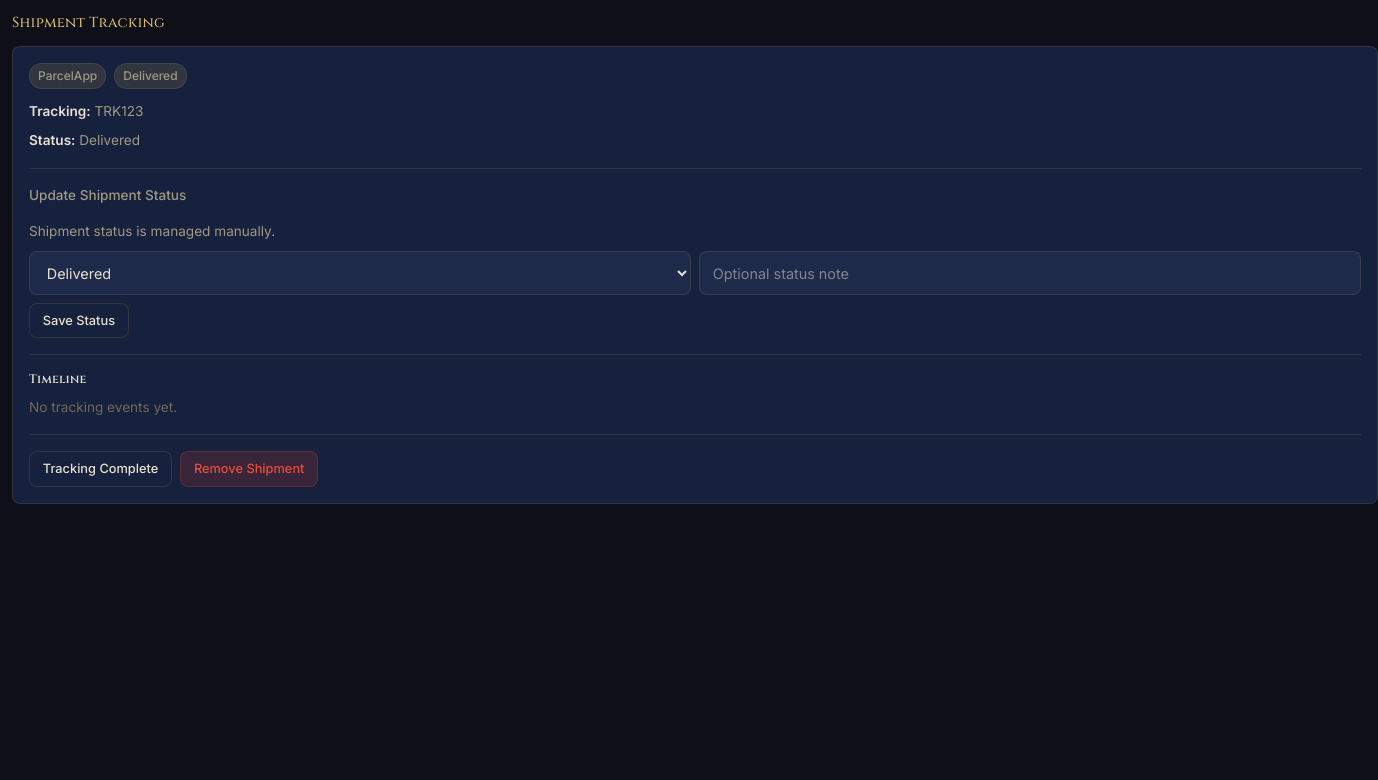
it: CoinShipmentSection › re-enables the manual ParcelApp check reactively once status moves away from delivered
Expected: the button "Tracking Complete" is disabled, [29,451,172,487]
Select "Exception" in the dropdown. click: (360, 273)
box: [29,251,691,295]
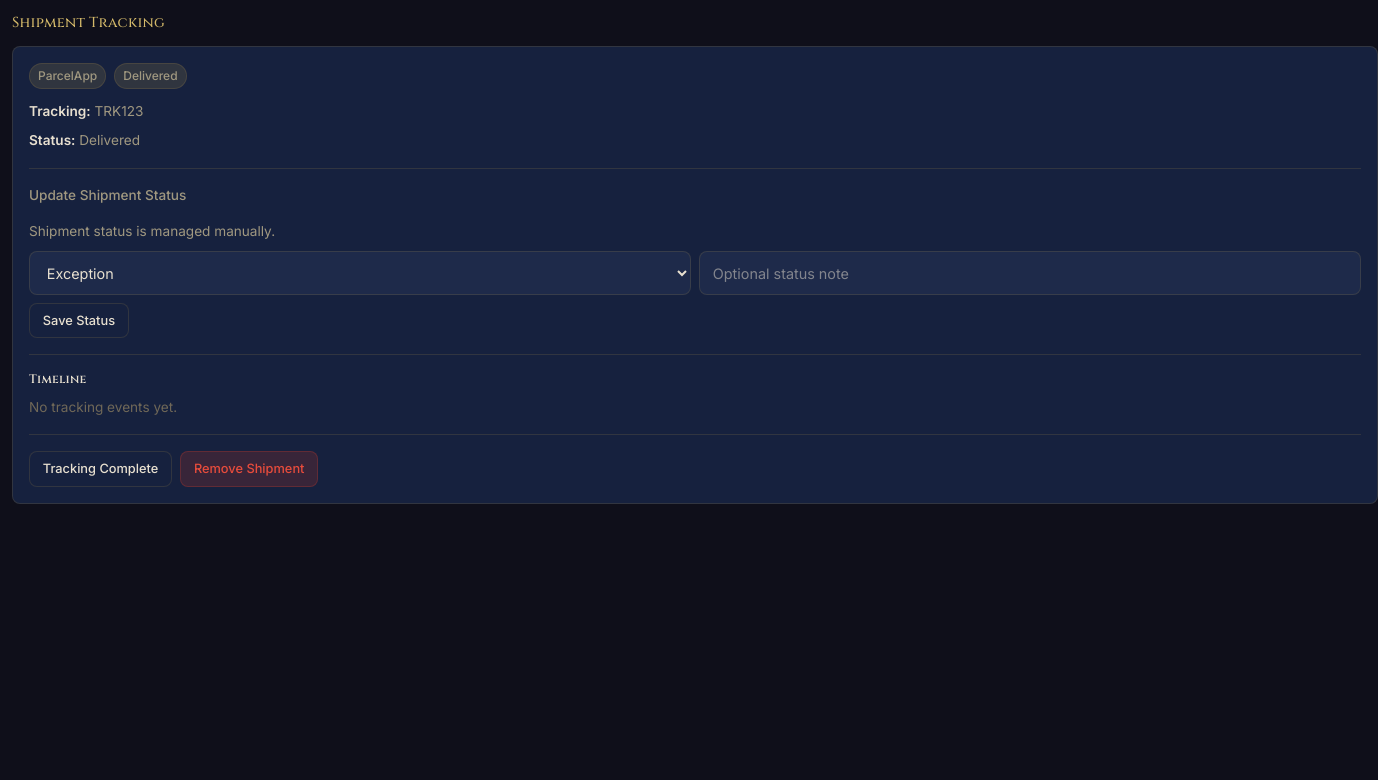
Click the button "Save Status". click: (79, 321)
box: [29,303,129,338]
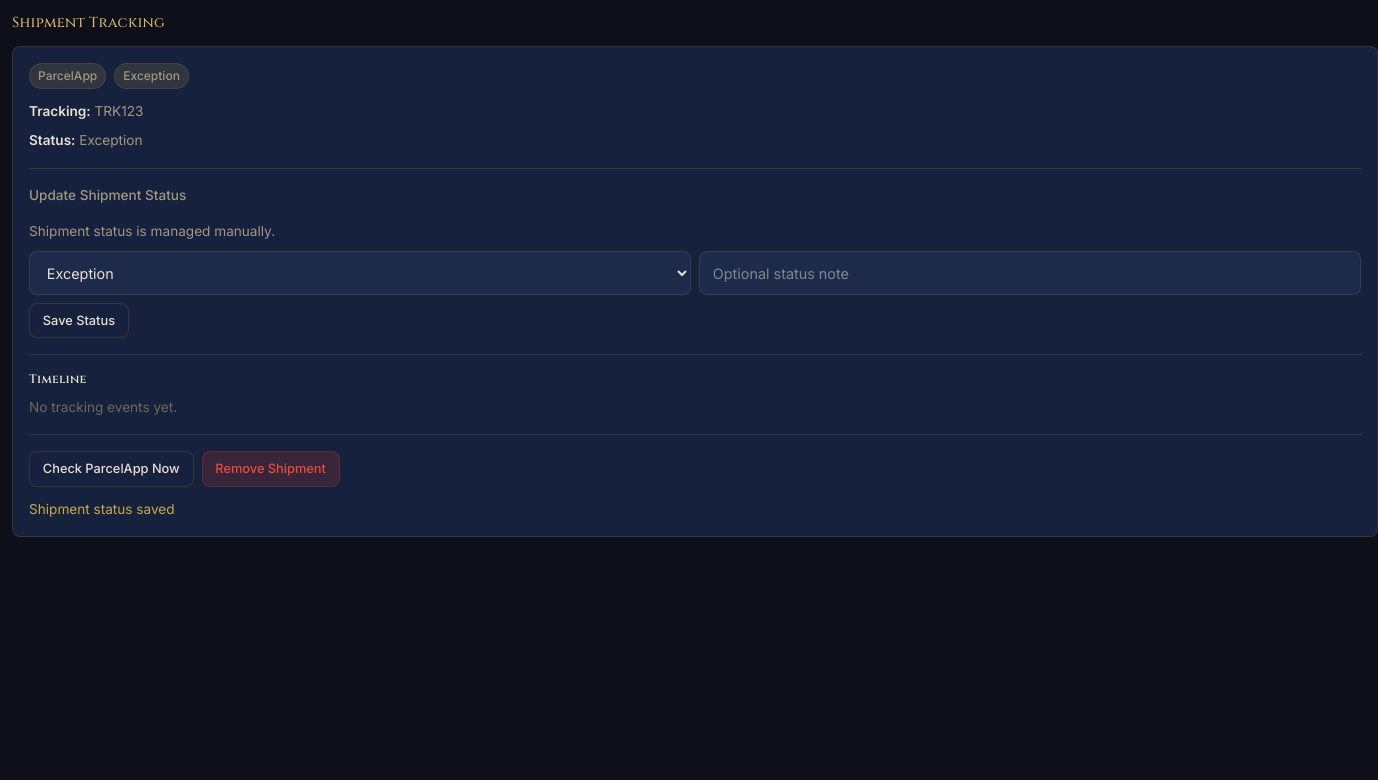
Now the button "Check ParcelApp Now" is shown, box [29,451,194,487]
Now the button "Check ParcelApp Now" is enabled, box [29,451,194,487]
